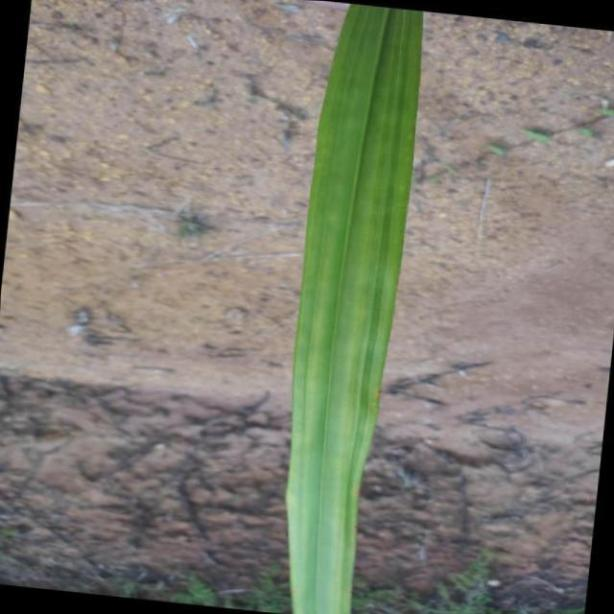nitrogen: (286, 12, 418, 612)
